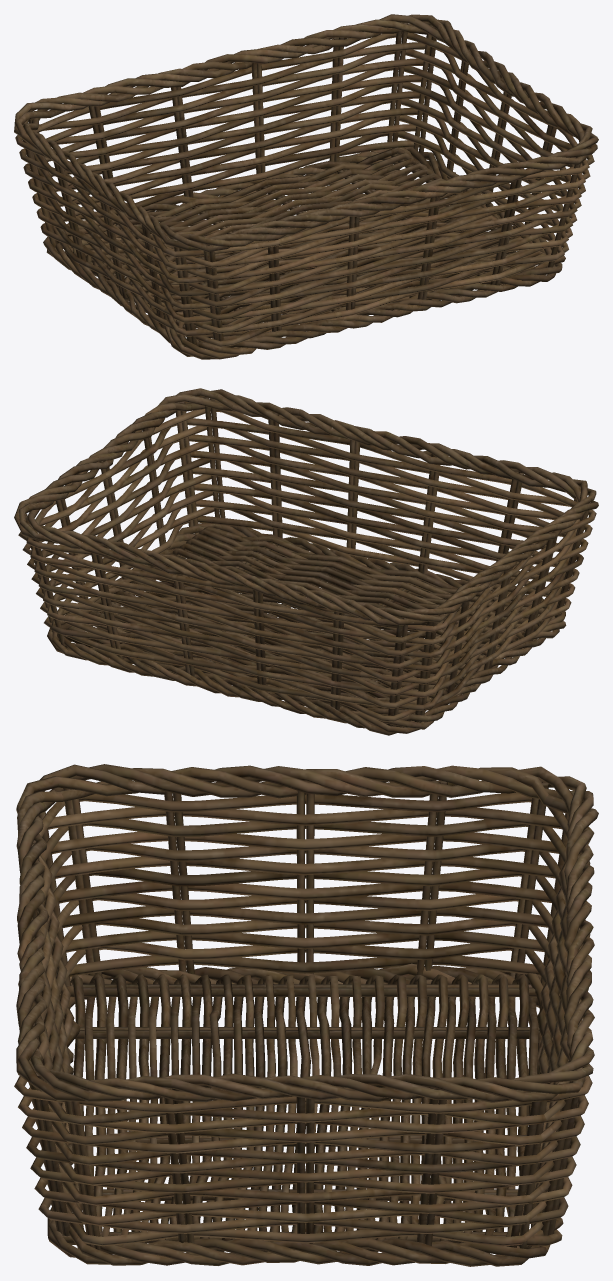
File: wicker_basket_01.glb
The picture shows the model from 3 angles, top to bottom: view 1: azimuth 30°, elevation 25°; view 2: azimuth 150°, elevation 25°; view 3: azimuth 270°, elevation 25°; orthographic projection. The views are drawn at different scales.
Visible parts, largest first — view 1: wicker_basket_01; view 2: wicker_basket_01; view 3: wicker_basket_01.
Boxes of the visible parts, box(x1,y1,x2,y2) form: wicker_basket_01: box(14, 14, 598, 359); wicker_basket_01: box(14, 388, 598, 735); wicker_basket_01: box(14, 764, 598, 1266).
Size of the model in its own units: 0.3832 by 0.1174 by 0.295.
Materials: 1 (1 with a texture image).
